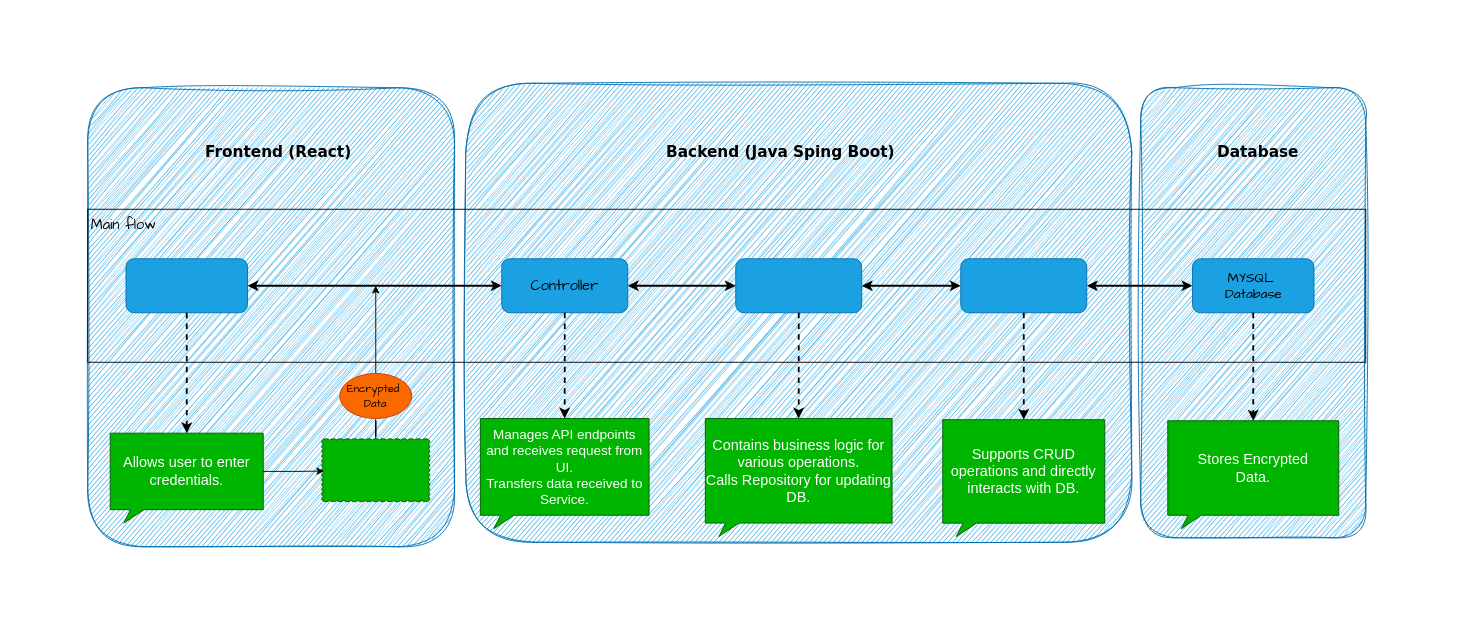
The diagram is 1472 pixels wide and 626 high, and some of its shapes have lost their labels. The box of each missing label's shape, as (x1, y1, x2, y2) in pixels:
Encrypts data on the client side.: (321, 438, 430, 502)
JPA Repository: (960, 258, 1087, 313)
Service: (735, 258, 862, 313)
User Interface: (125, 258, 248, 313)
